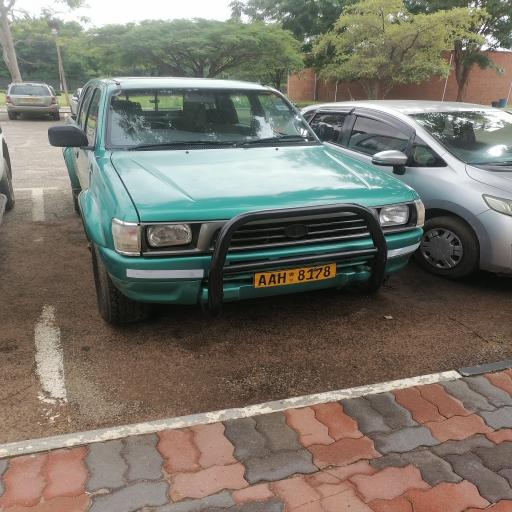number-plates: (248, 266, 348, 285)
